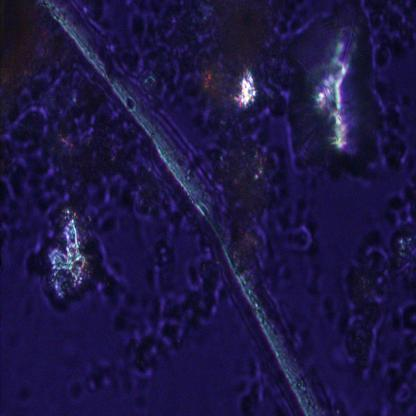Microfibre: (43, 1, 328, 413)
